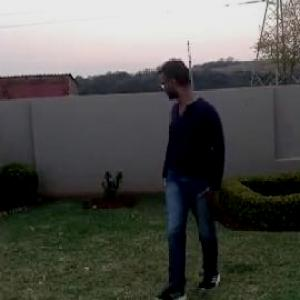follow: (154, 54, 226, 268)
